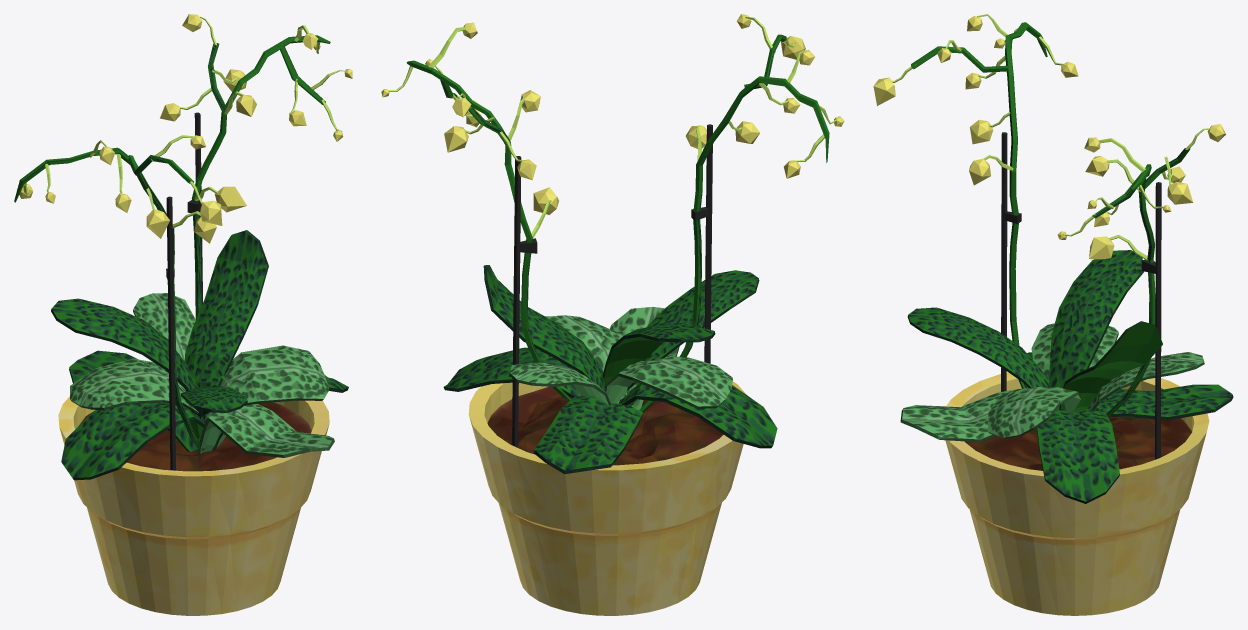
The model's file is Phalaenopsis_Good_End.glb.
The picture shows the model from 3 angles, left to right: view 1: azimuth 30°, elevation 25°; view 2: azimuth 150°, elevation 25°; view 3: azimuth 270°, elevation 25°; orthographic projection. The views are drawn at different scales.
Parts seen in each view (by area): view 1: Plant, Pot; view 2: Plant, Pot; view 3: Plant, Pot.
Part boxes in pixels (x1=…): Plant: x1=14, y1=14, x2=352, y2=480; Pot: x1=58, y1=396, x2=329, y2=615; Plant: x1=381, y1=14, x2=844, y2=474; Pot: x1=468, y1=381, x2=746, y2=615; Plant: x1=873, y1=14, x2=1233, y2=503; Pot: x1=945, y1=372, x2=1209, y2=615.
Size of the model in its own units: 3.19 by 4.23 by 2.74.
Materials: 7 (4 with a texture image).
